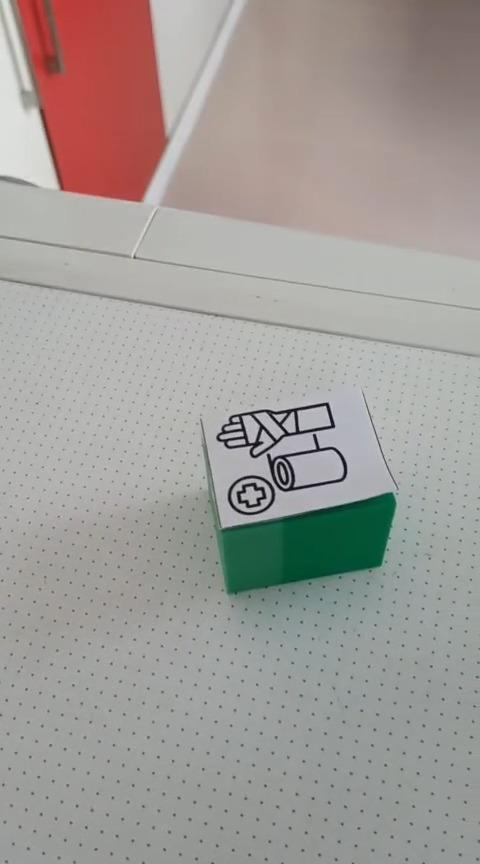Bandages: (199, 383, 400, 597)
